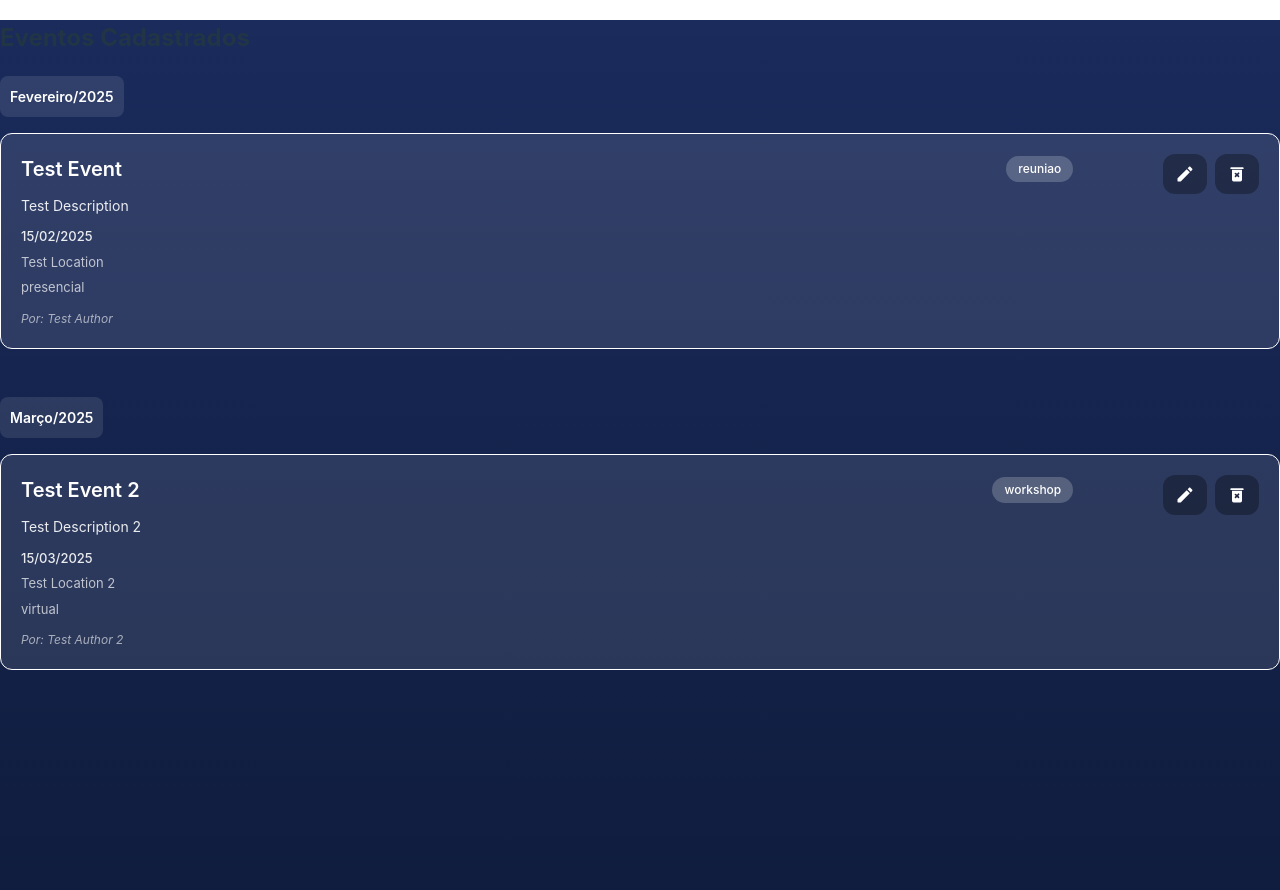
Scenario: EventsList › should enter edit mode when edit button is clicked
Click the button titled "Editar" next to "reuniao" at coordinates (1185, 174), box top-left (1163, 154), bottom-right (1207, 194)
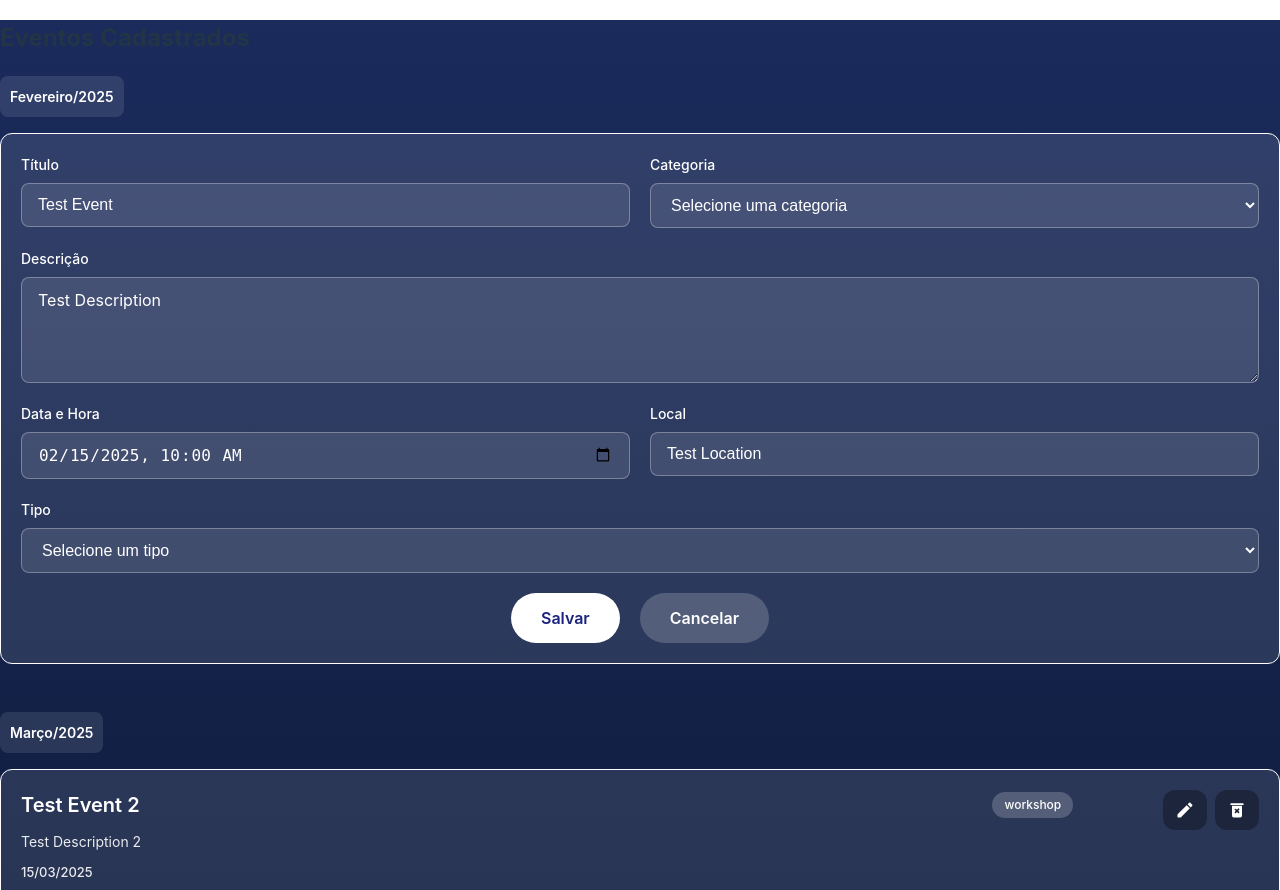
Check: the field showing "Test Event" is shown, box top-left (21, 183), bottom-right (630, 227)
Check: the text box showing "Test Description" is shown, box top-left (21, 277), bottom-right (1259, 383)
Check: the field showing "Test Location" is shown, box top-left (650, 432), bottom-right (1259, 476)
